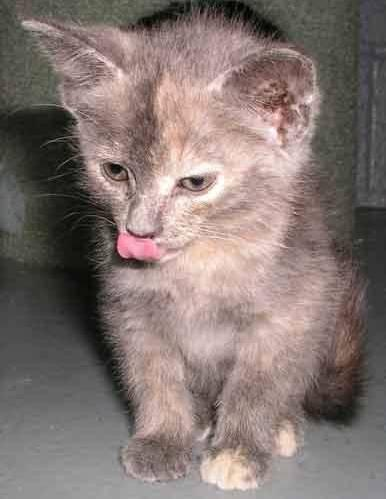cat: (23, 1, 362, 489)
